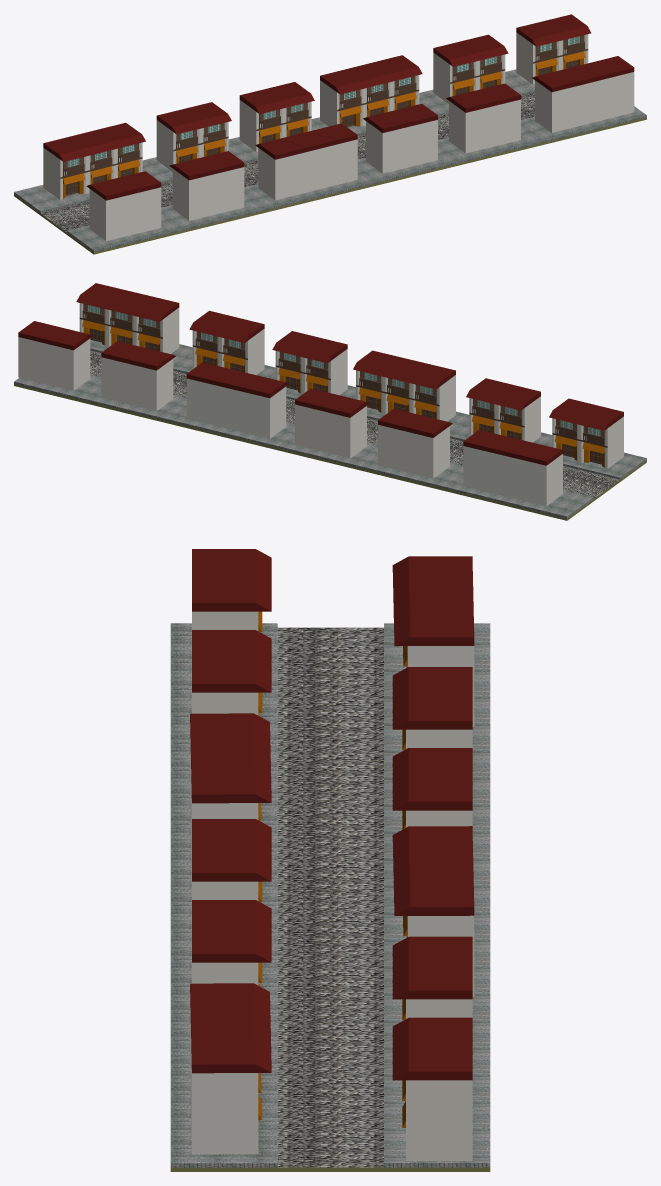
Rendered from city view10.fbx.
The picture shows the model from 3 angles, top to bottom: view 1: azimuth 30°, elevation 25°; view 2: azimuth 150°, elevation 25°; view 3: azimuth 270°, elevation 25°; orthographic projection. The views are drawn at different scales.
Parts seen in each view (by area): view 1: Plane.001; view 2: Plane.001; view 3: Plane.001.
Part boxes in pixels (left/top/right/bottom): Plane.001: left=14, top=14, right=646, bottom=254; Plane.001: left=14, top=283, right=646, bottom=520; Plane.001: left=170, top=549, right=490, bottom=1171.
Size of the model in its own units: 4000 by 346 by 1000.
